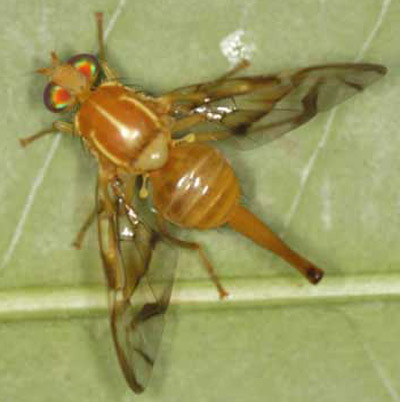Fruit fly: (30, 37, 364, 362)
